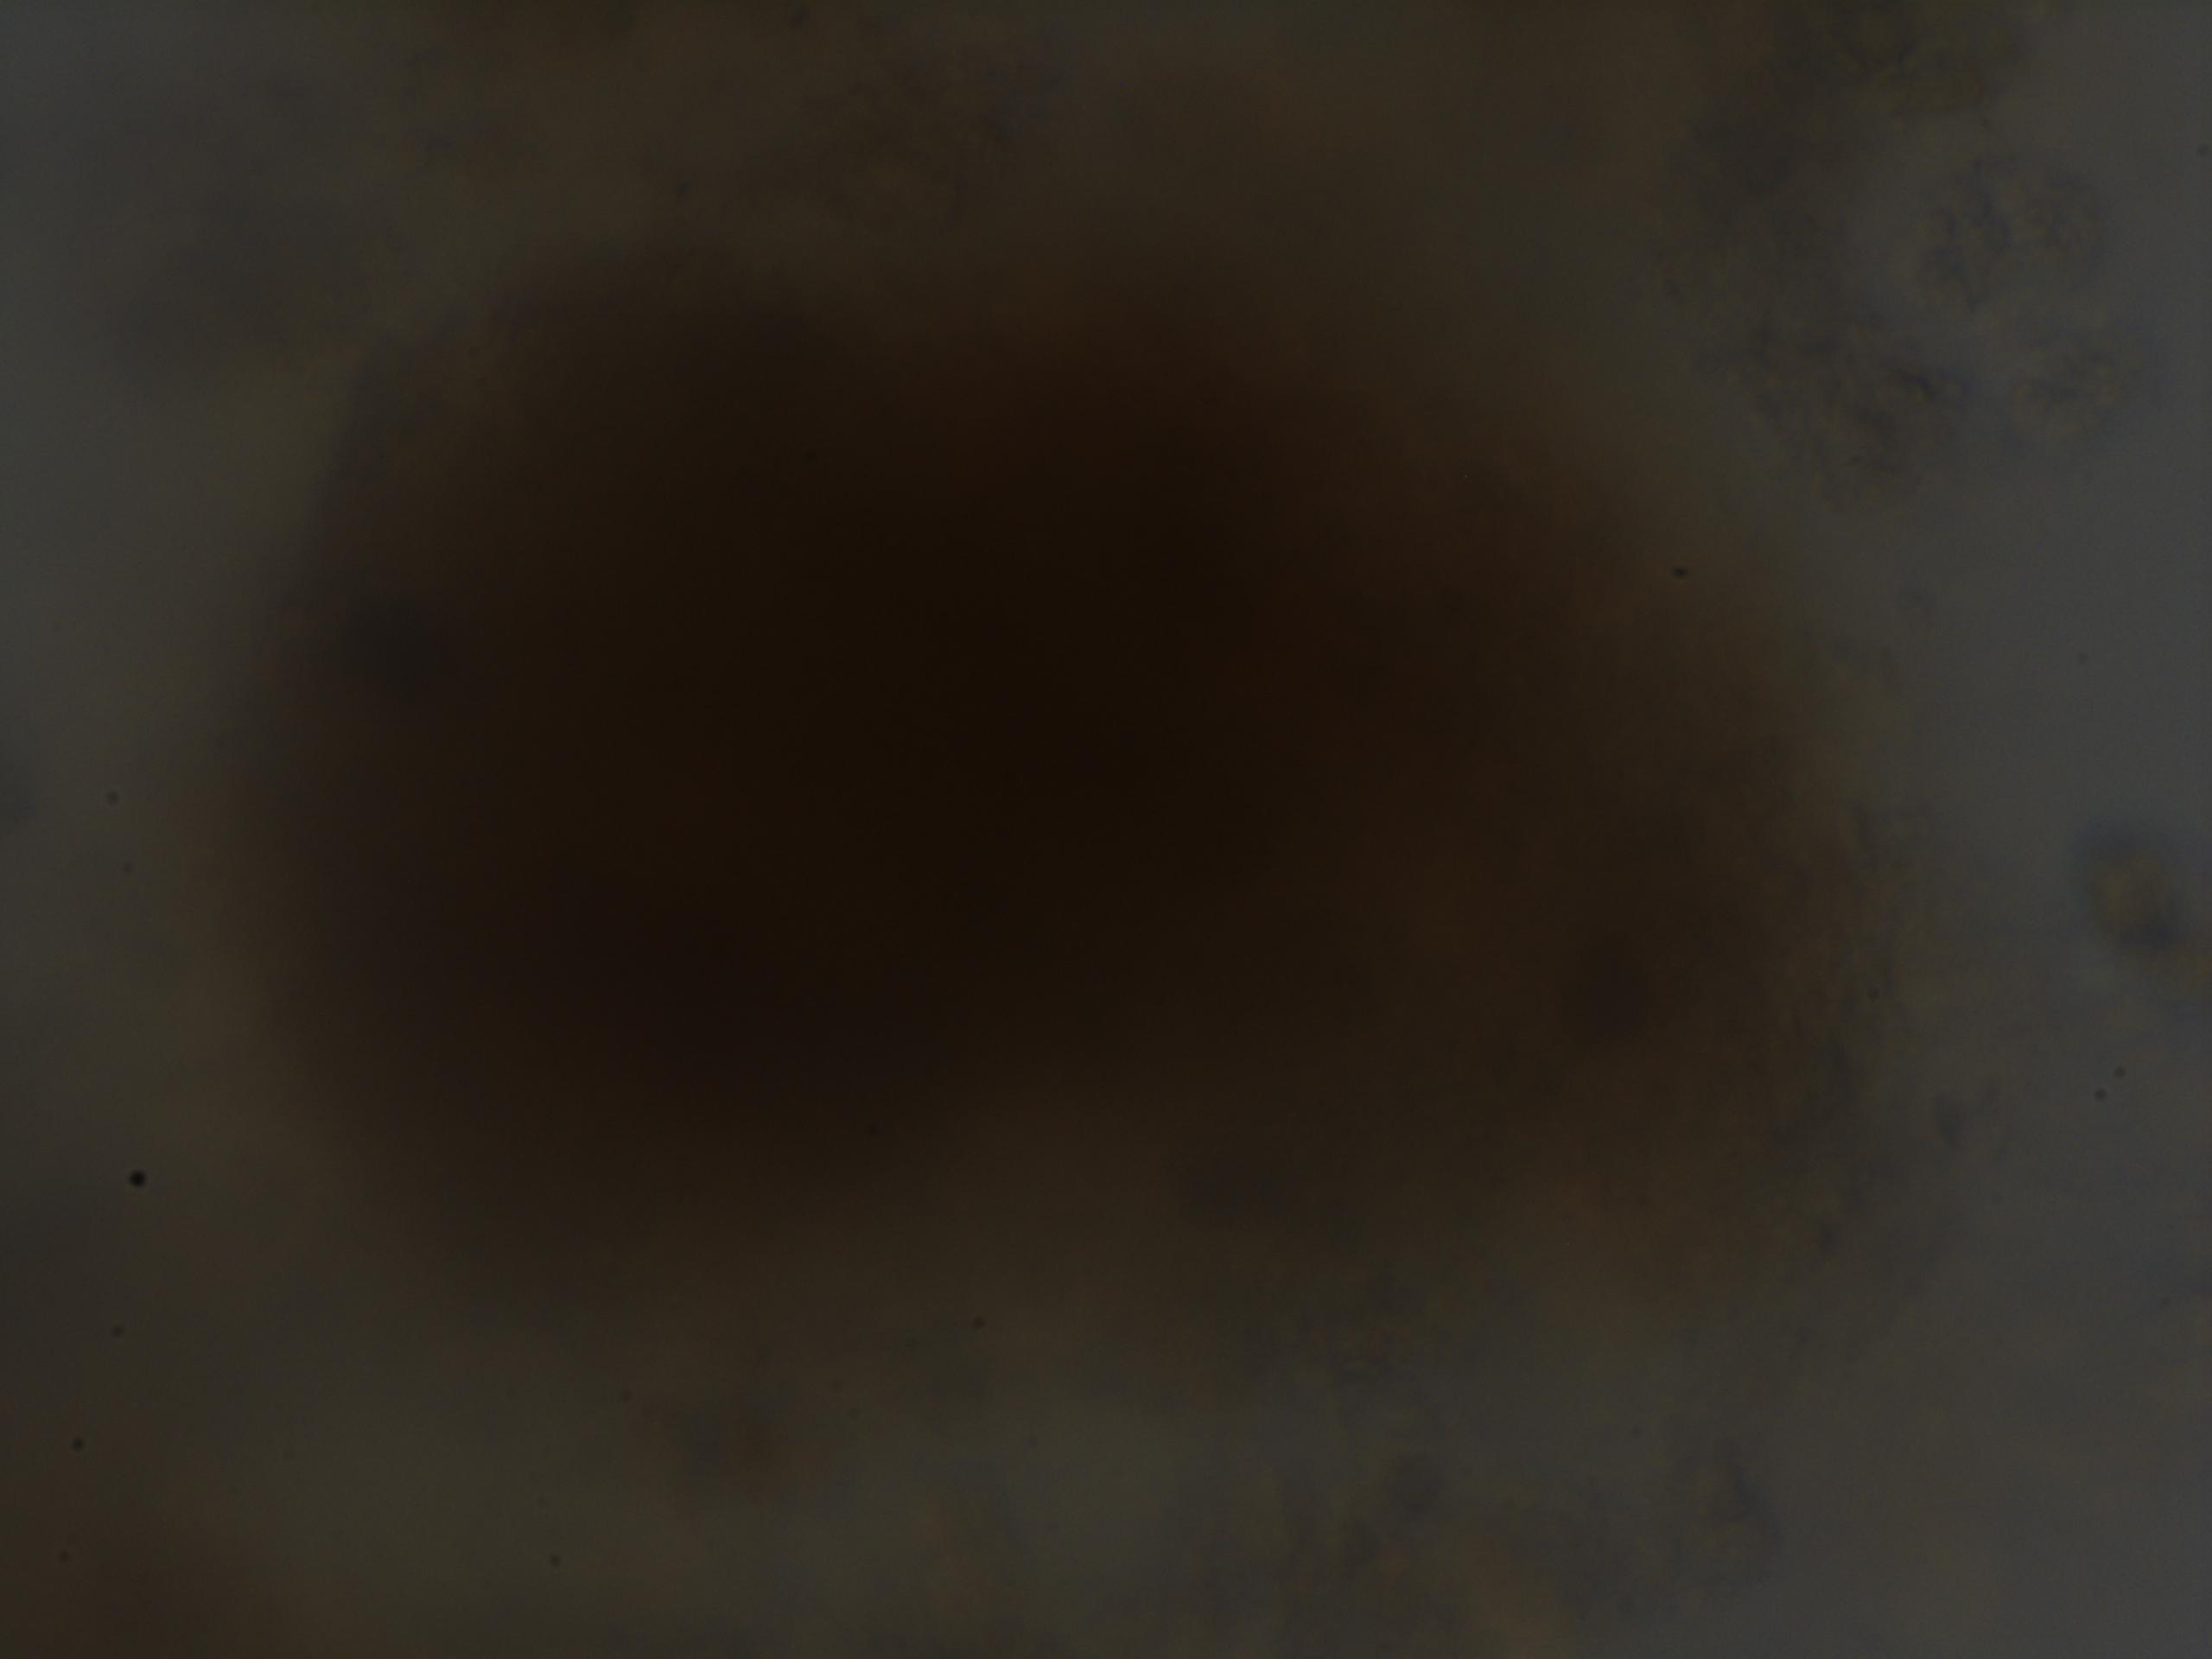spherical_floc: (209, 247, 1902, 1323)
